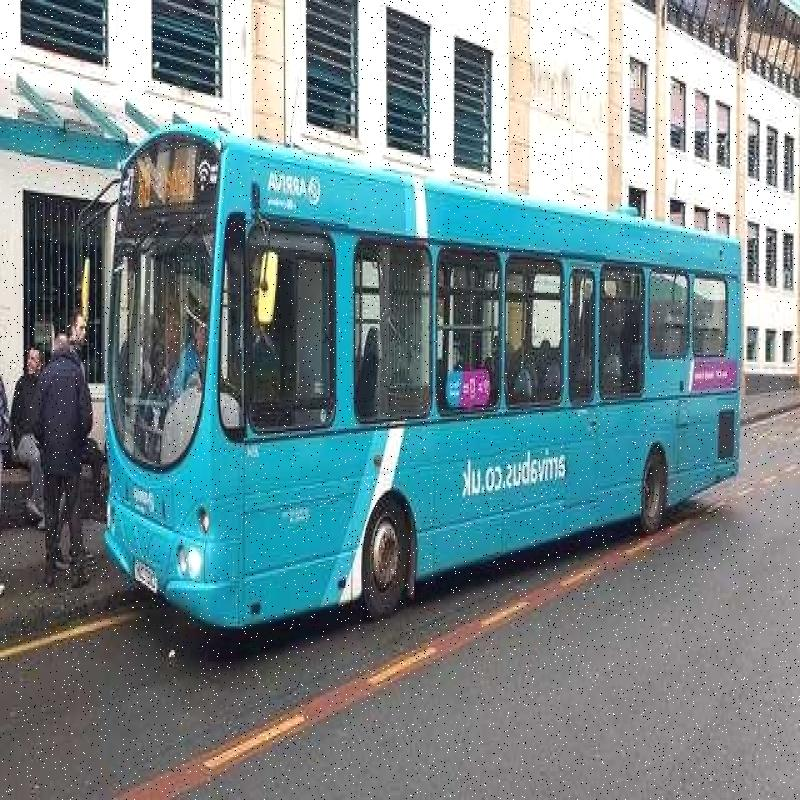bus: (89, 97, 762, 641)
